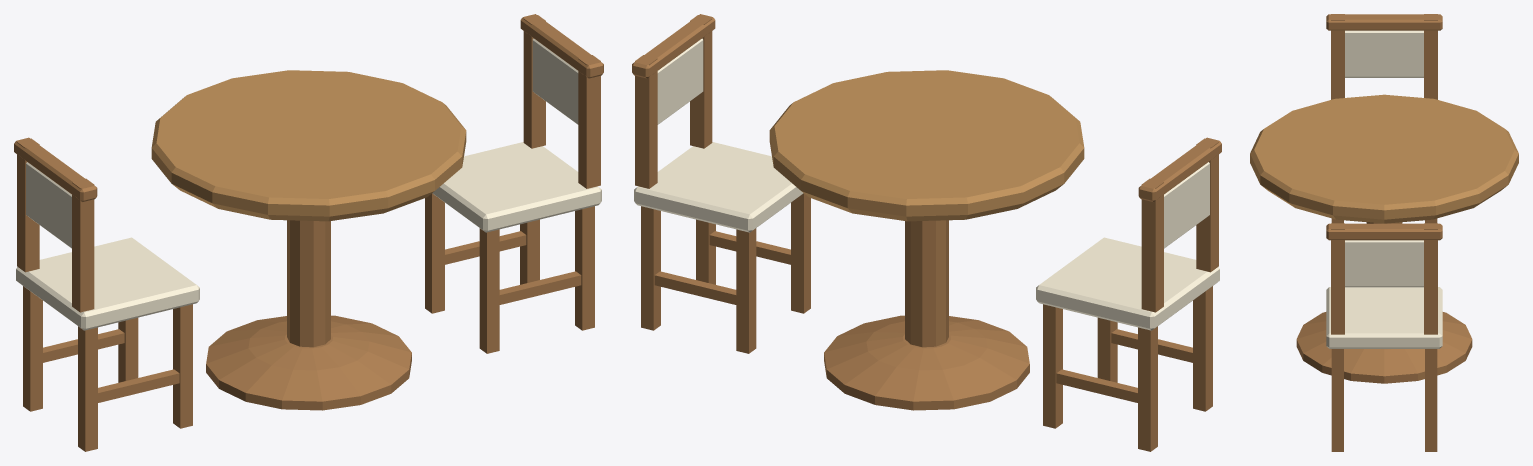
The model's file is table-set.glb.
3 renders of one model, left to right at view 1: azimuth 30°, elevation 25°; view 2: azimuth 150°, elevation 25°; view 3: azimuth 270°, elevation 25°, orthographic. The views are drawn at different scales.
Parts seen in each view (by area): view 1: table-set; view 2: table-set; view 3: table-set.
Boxes of the visible parts, box(x1,y1,x2,y2) form: table-set: box(14, 14, 603, 451); table-set: box(632, 14, 1221, 451); table-set: box(1250, 14, 1518, 451).
Size of the model in its own units: 0.4955 by 0.24 by 0.26.
